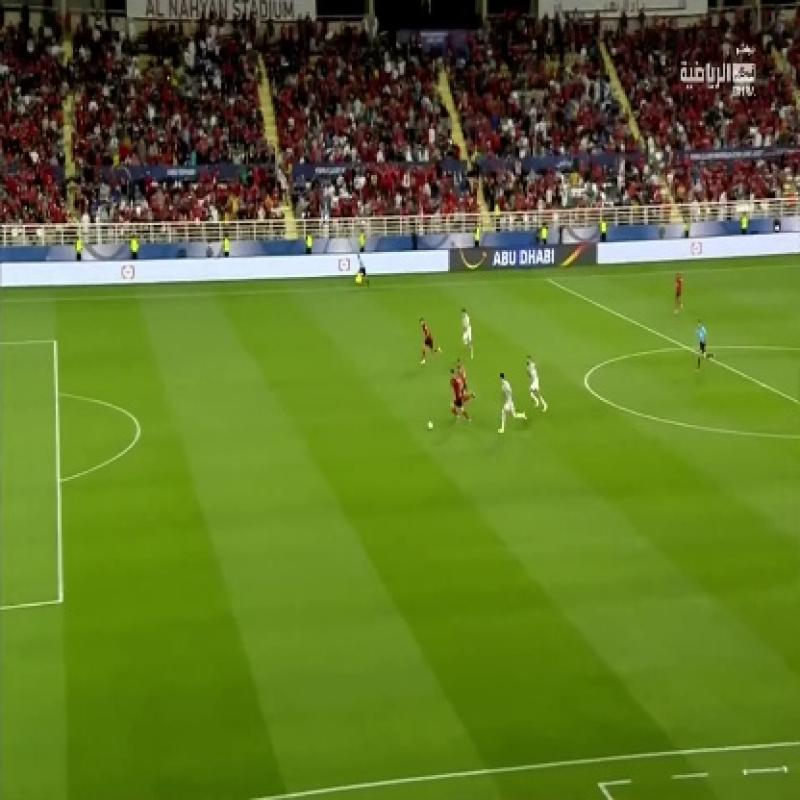10: (47, 381, 66, 402)
11: (48, 468, 69, 492)
12: (48, 585, 71, 614)
13: (538, 268, 556, 284)
14: (674, 334, 692, 356)
9: (46, 331, 64, 350)
c: (586, 386, 608, 404)
